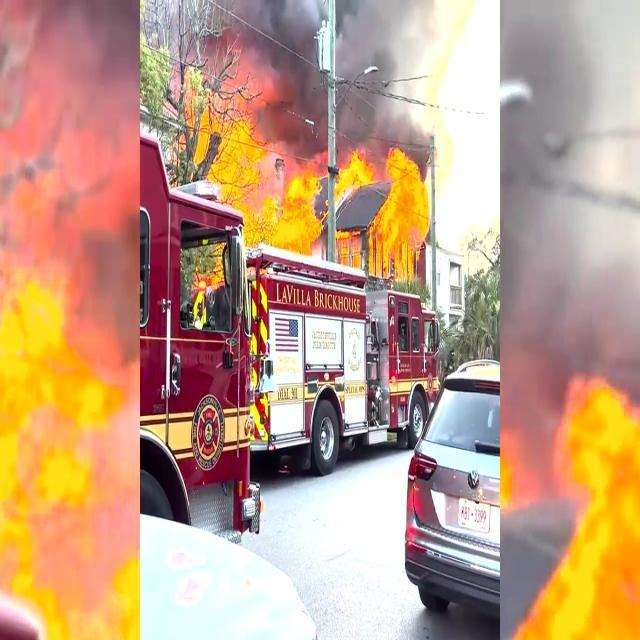Fire: (194, 103, 332, 253), (346, 150, 414, 260)
Smoke: (202, 0, 464, 116)
